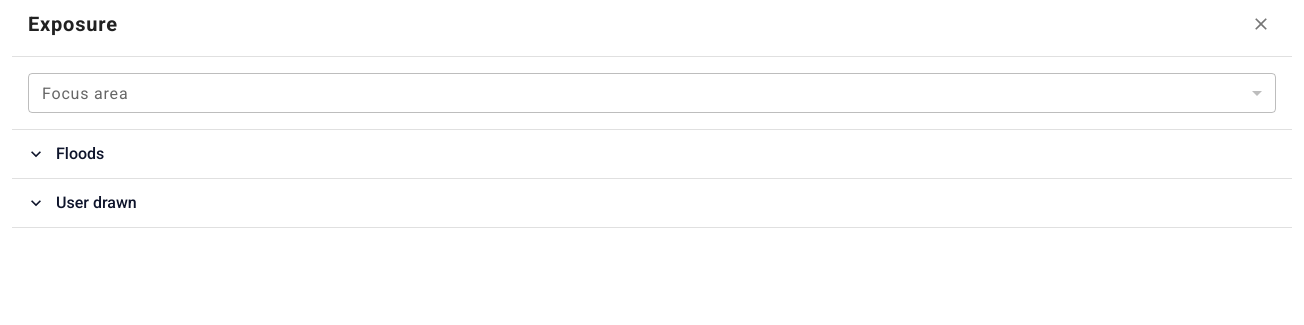
Test: ExposureView › Exposure Layers Display › shows layer names when group is expanded
The image size is (1304, 325).
Expected: the text "Floods" is shown, x1=56 y1=144 x2=104 y2=163
Step 1. Click the button "Floods" → (80, 154), box x1=12 y1=130 x2=1292 y2=178
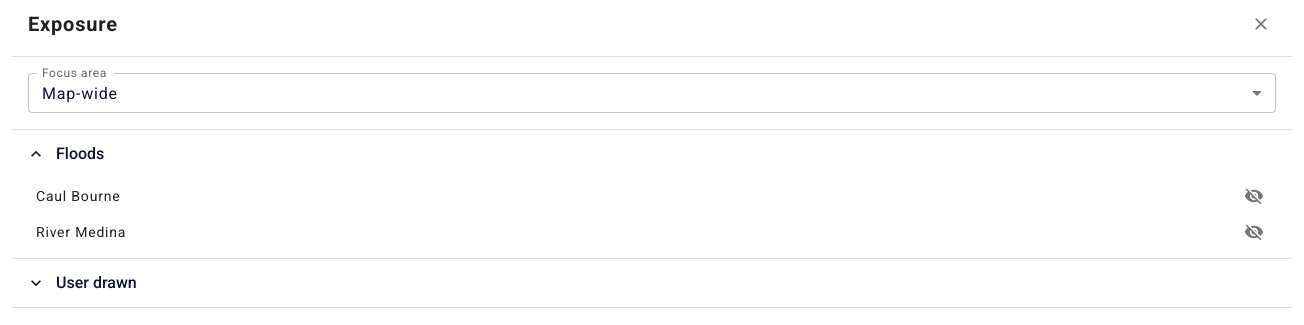
Result: the text "Caul Bourne" is shown at x1=36 y1=188 x2=120 y2=204
Result: the text "River Medina" is shown at x1=36 y1=224 x2=126 y2=240
